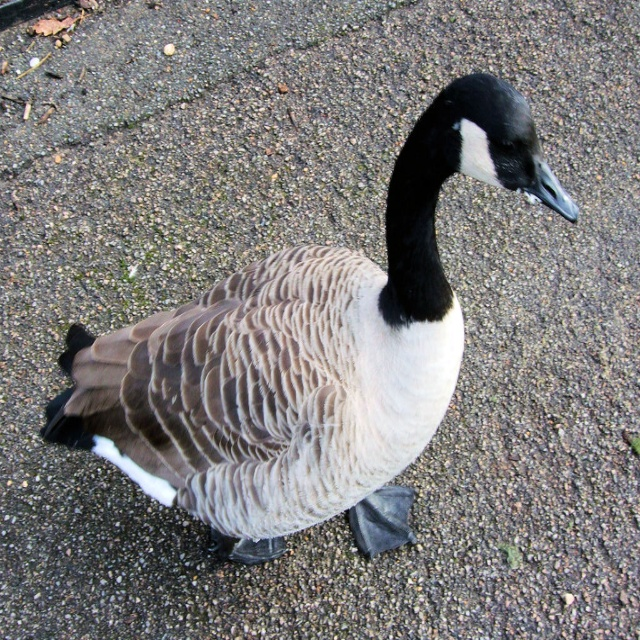Duck: (38, 73, 580, 565)
